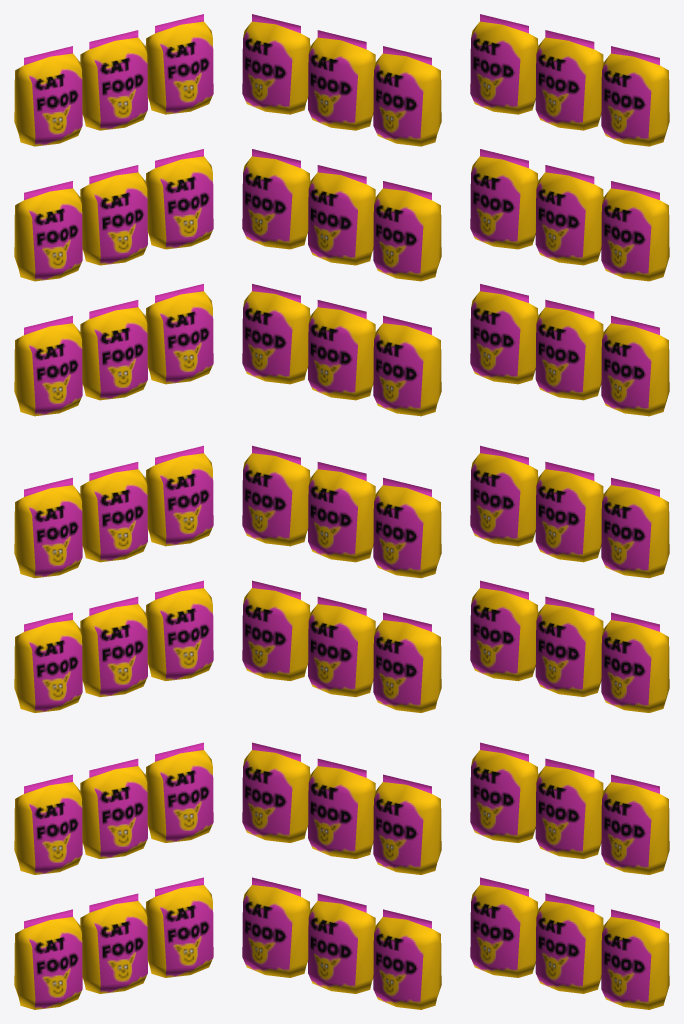
Rendered from Cat_food.fbx.
3 views of the same model, side by side, from view 1: azimuth 30°, elevation 25°; view 2: azimuth 150°, elevation 25°; view 3: azimuth 330°, elevation 25° (orthographic).
Parts seen in each view (by area): view 1: Cat_Food_Group; view 2: Cat_Food_Group; view 3: Cat_Food_Group.
Part boxes in pixels (x1,y1,x2,y2): Cat_Food_Group: [14, 14, 213, 1009]; Cat_Food_Group: [242, 14, 441, 1009]; Cat_Food_Group: [470, 14, 669, 1009].
Size of the model in its own units: 1.69 by 7.83 by 0.4463.
